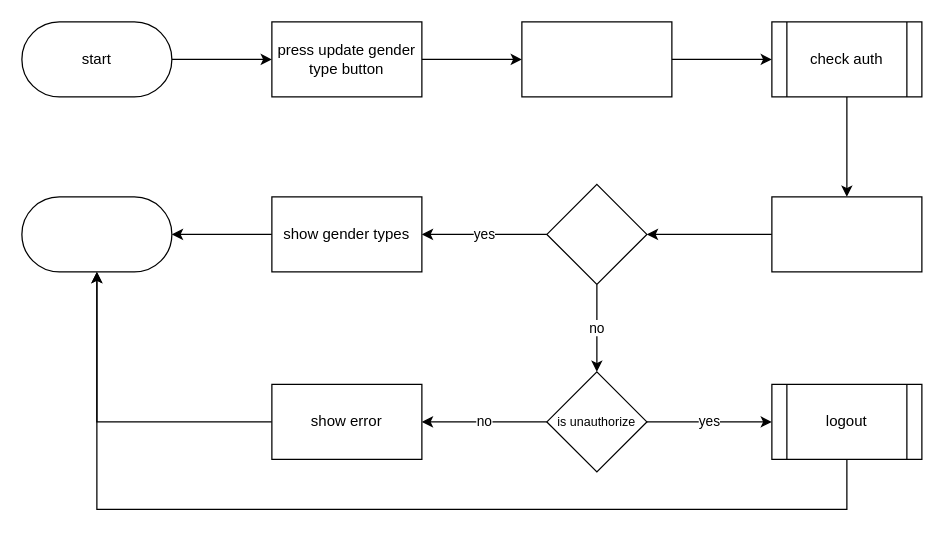
This 944x541 diagram has some shape labels left out. The centre of each missing label's shape, as x and y in pixels:
"end" goes at point (96, 234).
"success" goes at point (596, 233).
"update gender type detail" goes at point (596, 59).
"use access token to update gender type" goes at point (846, 234).
